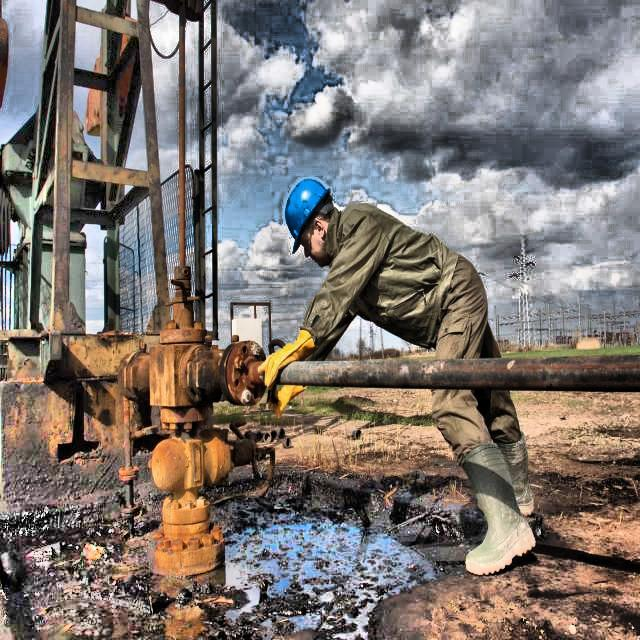person: (248, 160, 550, 596)
